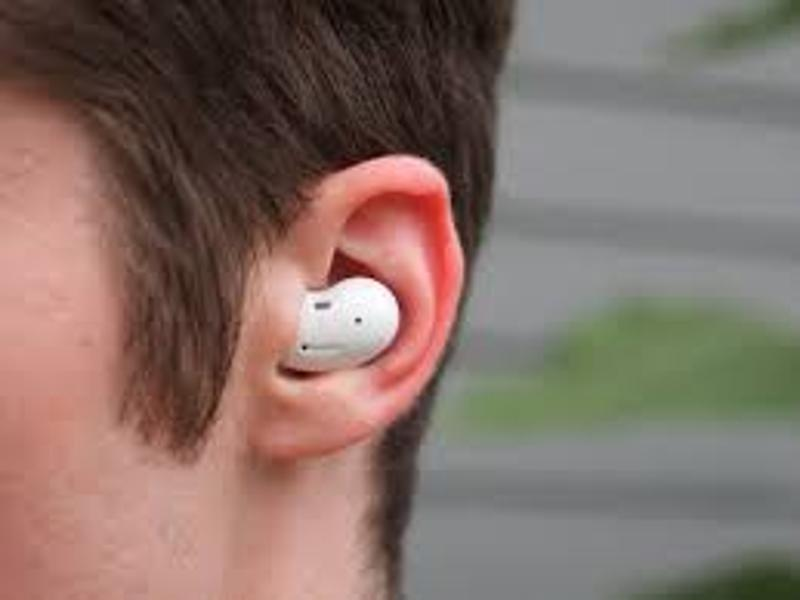headphone: (281, 274, 402, 372)
